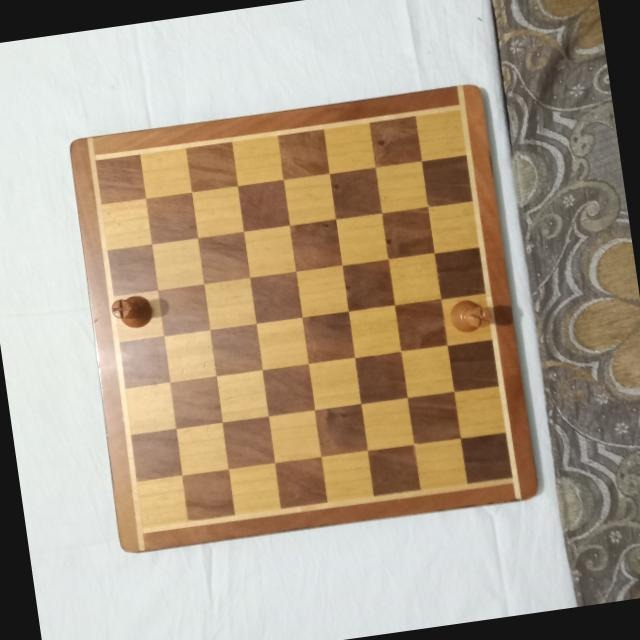white-rook: (107, 289, 157, 331), (447, 295, 495, 336)
